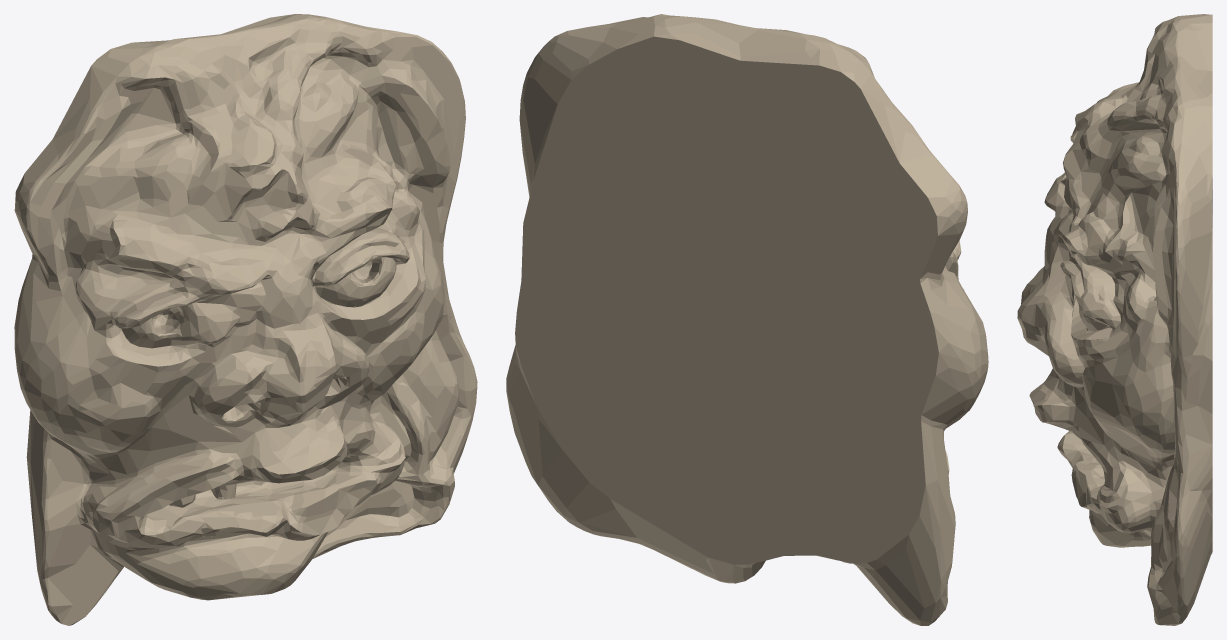
Rendered from Gargoyle_02.glb.
3 renders of one model, left to right at view 1: azimuth 30°, elevation 25°; view 2: azimuth 150°, elevation 25°; view 3: azimuth 270°, elevation 25°, orthographic. The views are drawn at different scales.
Parts seen in each view (by area): view 1: Gargoyle_02; view 2: Gargoyle_02; view 3: Gargoyle_02.
Boxes of the visible parts, box(x1,y1,x2,y2) form: Gargoyle_02: box(14, 14, 477, 625); Gargoyle_02: box(506, 14, 988, 625); Gargoyle_02: box(1017, 14, 1212, 625).
Bounding box in the file's own units: 2.56 × 2.98 × 1.03.
